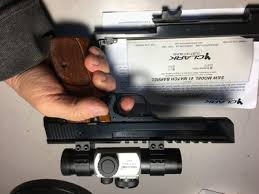gun: (43, 33, 238, 189)
